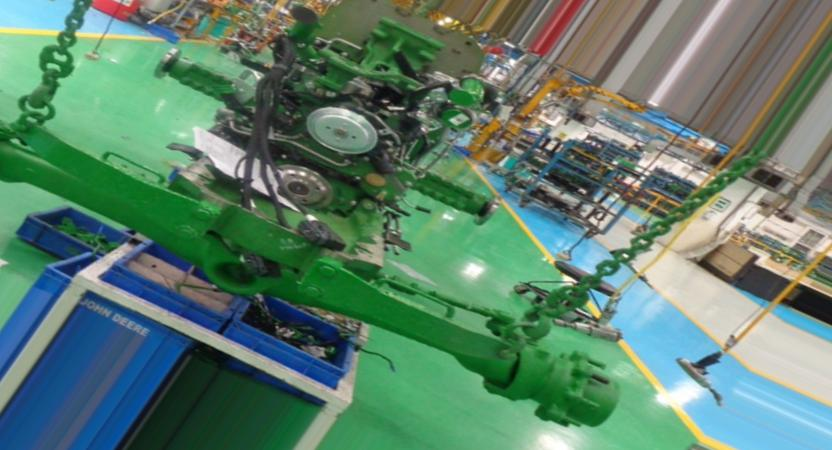engine: (0, 0, 627, 429)
